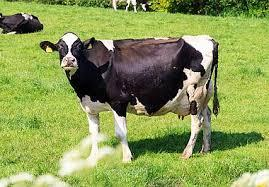cow: (40, 32, 220, 164), (0, 12, 43, 35), (112, 0, 149, 14)
